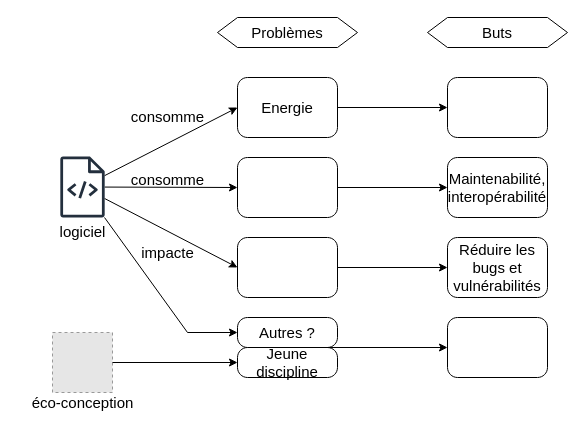
The diagram is 585 pixels wide and 435 high, and some of its shapes have lost their labels. Grey dashed boxes stand in for pictures. Each missing label, with the centre of its shape:
Modéliser les aspects d' écoconception: [497,347]
Personnes, biens, environnement: [287,267]
Réduire la consommation électrique: [497,107]
Travail humain: [287,187]
